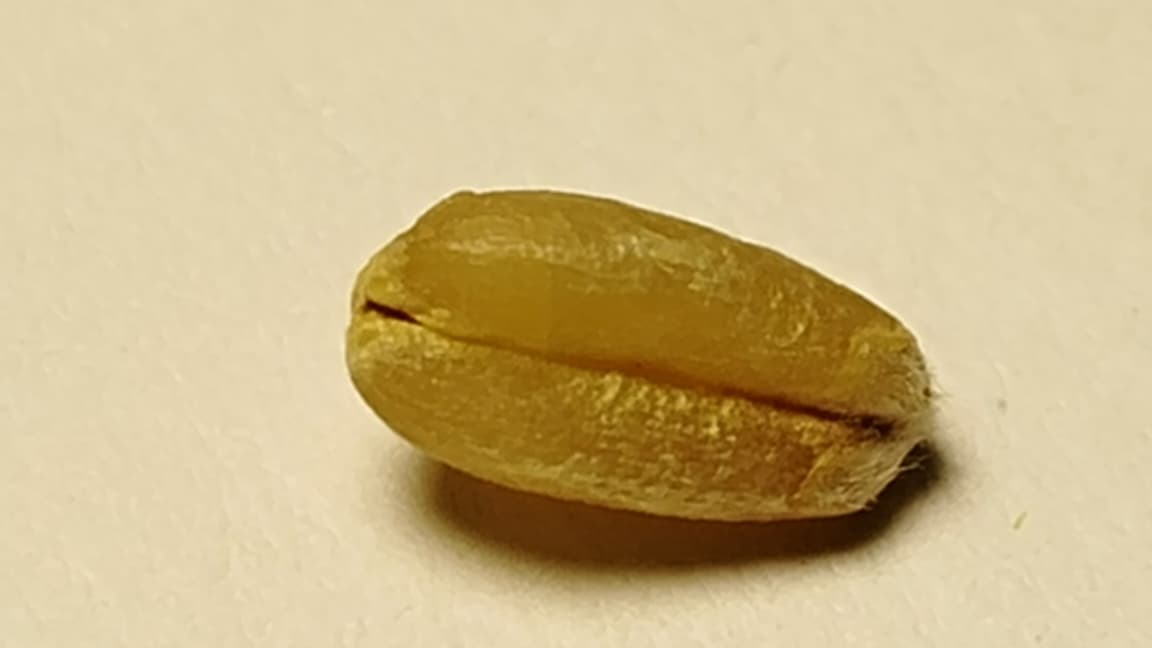healthy: (347, 190, 932, 519)
